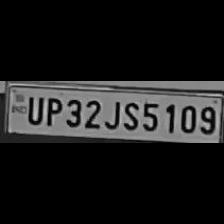0: (176, 102, 198, 134)
1: (161, 100, 177, 134)
2: (81, 96, 101, 128)
3: (63, 95, 81, 127)
5: (140, 100, 160, 132)
9: (196, 102, 216, 134)
J: (102, 97, 120, 129)
P: (42, 96, 62, 127)
S: (120, 98, 140, 130)
U: (22, 94, 44, 125)
